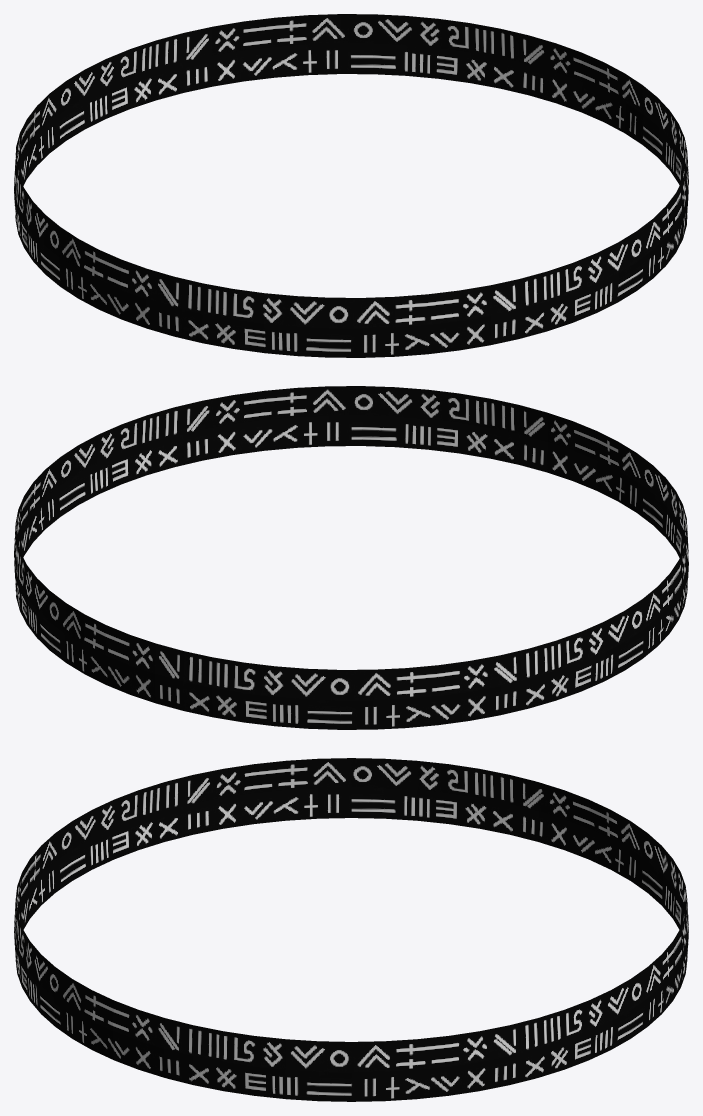
File: moonObi.fbx
3 renders of one model, top to bottom at view 1: azimuth 30°, elevation 25°; view 2: azimuth 150°, elevation 25°; view 3: azimuth 270°, elevation 25°, orthographic.
Parts seen in each view (by area): view 1: moonObi; view 2: moonObi; view 3: moonObi.
Boxes of the visible parts, bbox=[...] form: moonObi: bbox=[14, 14, 688, 357]; moonObi: bbox=[14, 386, 688, 729]; moonObi: bbox=[14, 758, 688, 1101].
Size of the model in its own units: 473 by 46.32 by 473.
